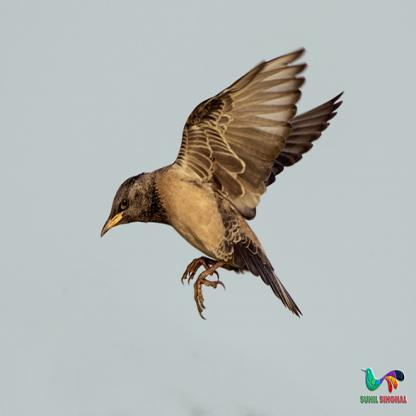Burung: (99, 51, 345, 320)
